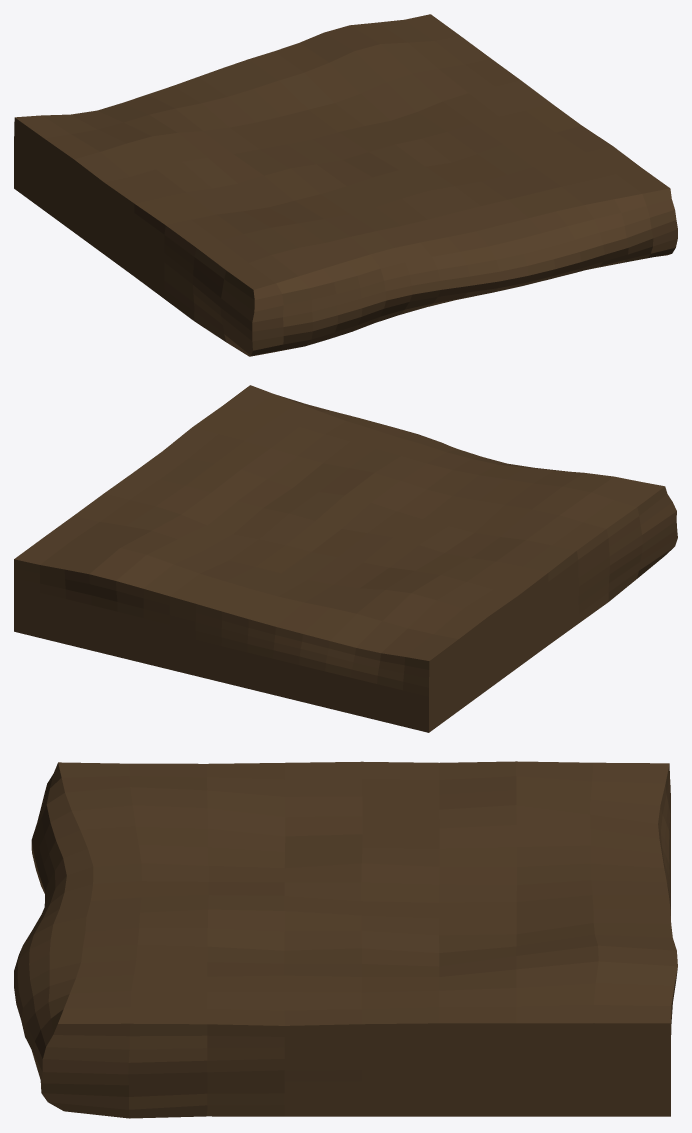
File: platformBigPlain.fbx
3 views of the same model, one above another, from view 1: azimuth 30°, elevation 25°; view 2: azimuth 150°, elevation 25°; view 3: azimuth 270°, elevation 25° (orthographic). The views are drawn at different scales.
Parts seen in each view (by area): view 1: bigPlatformPlain; view 2: bigPlatformPlain; view 3: bigPlatformPlain.
Boxes of the visible parts, box(x1,y1,x2,y2) form: bigPlatformPlain: box(14, 14, 677, 356); bigPlatformPlain: box(14, 385, 677, 732); bigPlatformPlain: box(14, 761, 677, 1118).
Bounding box in the file's own units: 309 × 58.64 × 322.
